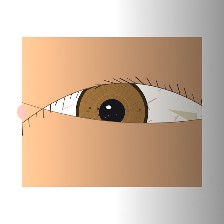pterygium_lesion: (164, 97, 201, 127)
